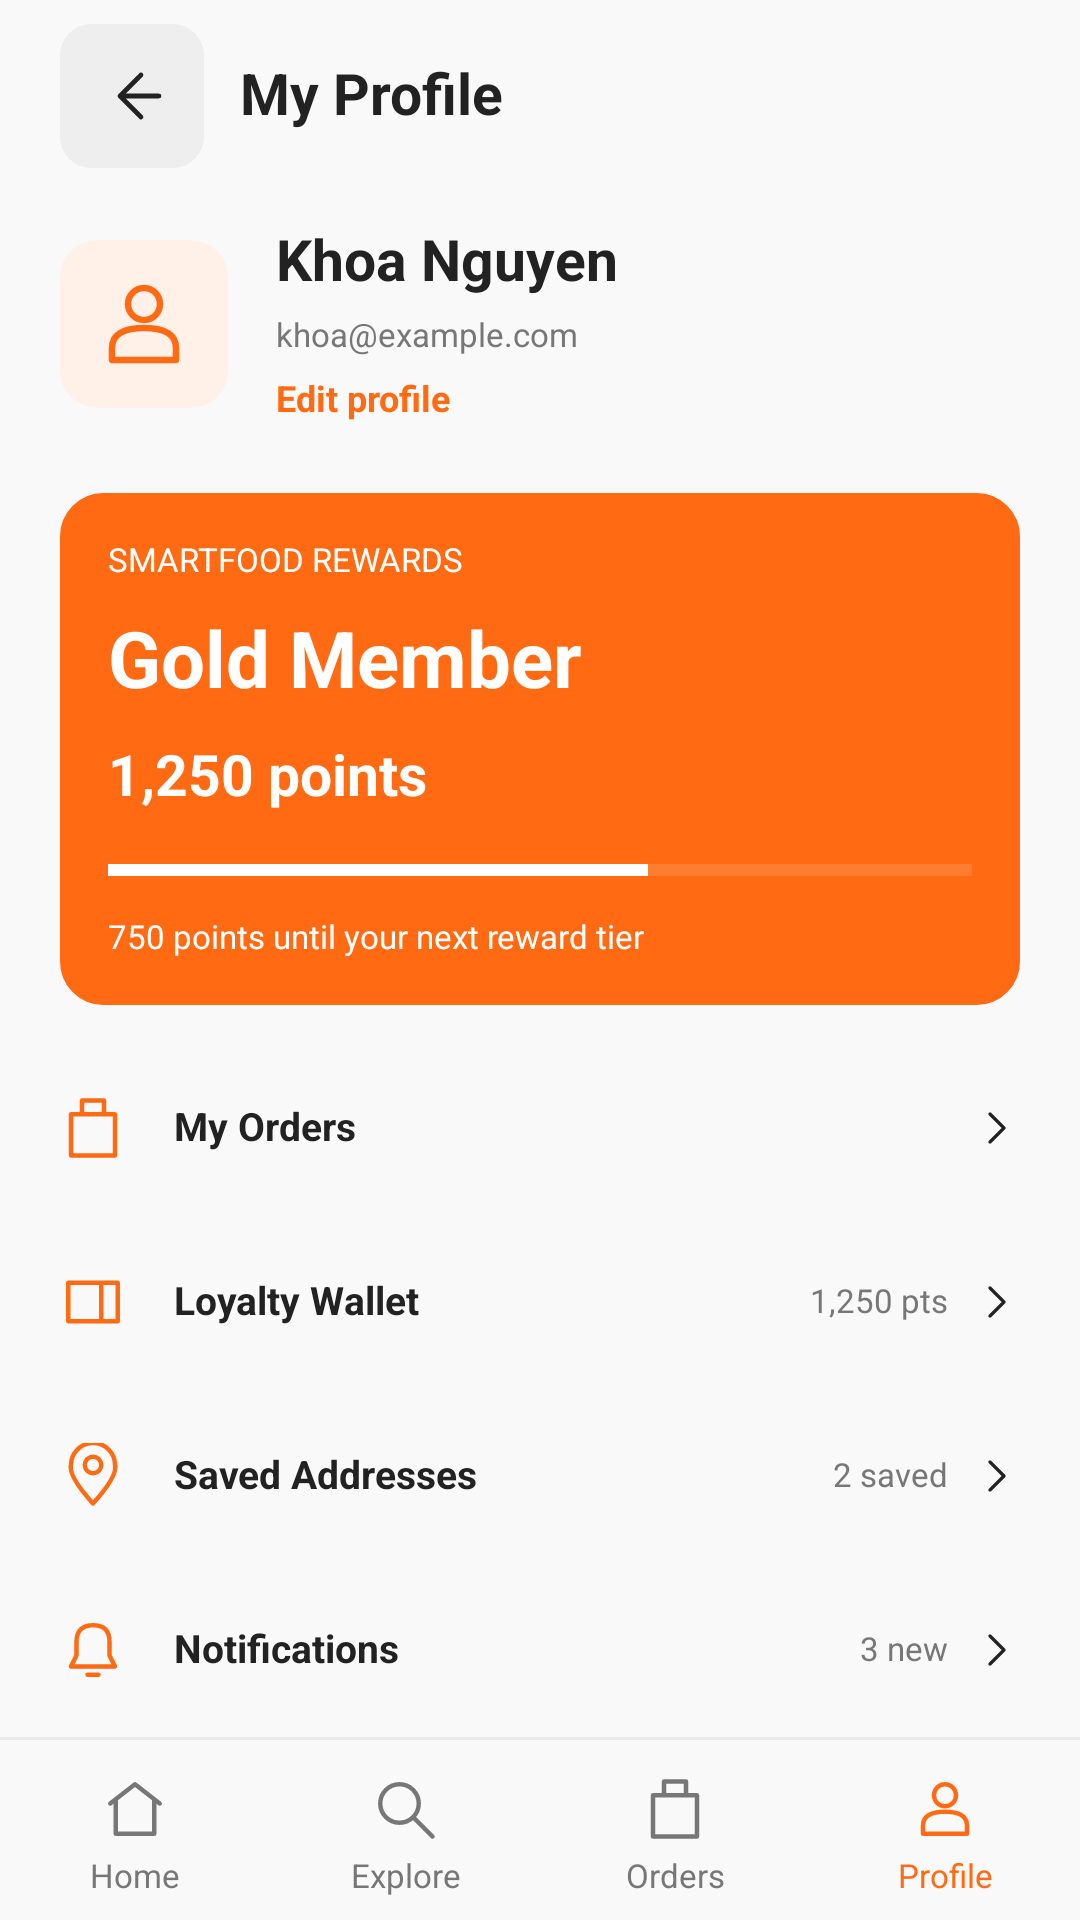

Icons on this 1080*1920 Android screen, each with the point to tap as (x,y):
Back: (132,96)
tv bag: (93,1128), (675,1809)
tv bell: (92,1650)
tv chevron: (997,1128), (997,1302), (997,1476), (997,1650)
tv person: (144,324), (945,1809)
tv pin: (93,1474)
tv search: (406,1810)
